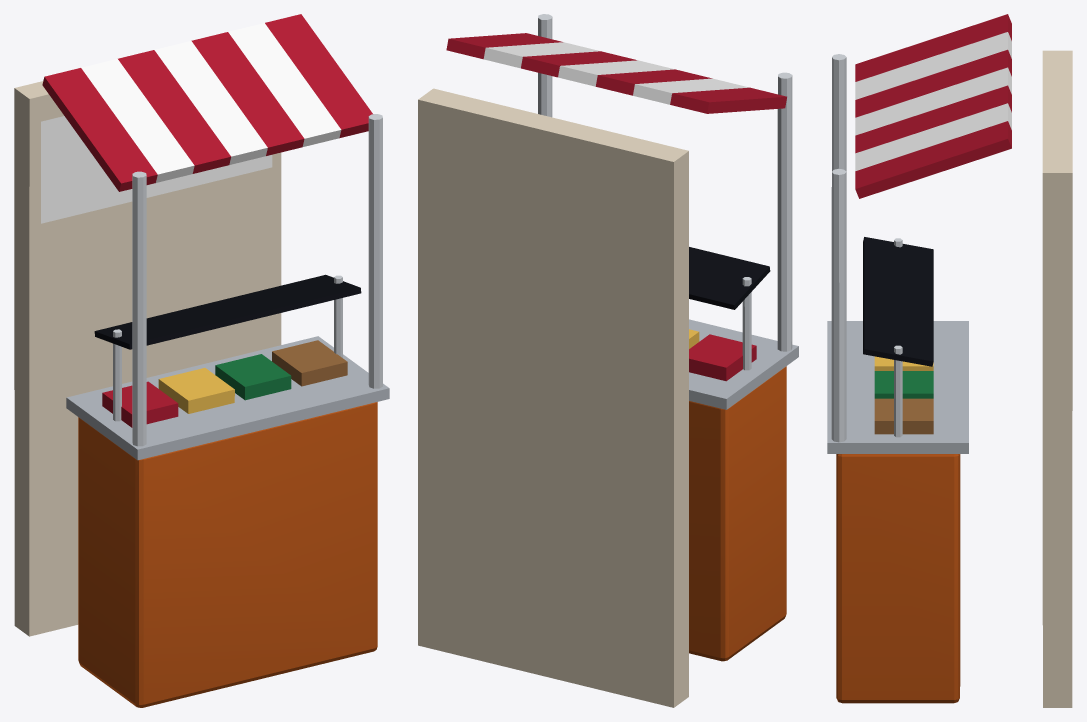
File: food-counter.glb
The picture shows the model from 3 angles, left to right: view 1: azimuth 30°, elevation 25°; view 2: azimuth 150°, elevation 25°; view 3: azimuth 270°, elevation 25°; orthographic projection. The views are drawn at different scales.
Visible parts, largest first — view 1: food-counter_lod0; view 2: food-counter_lod0; view 3: food-counter_lod0.
Part boxes in pixels (<box>): food-counter_lod0: <box>14,14,389,707</box>; food-counter_lod0: <box>418,14,798,707</box>; food-counter_lod0: <box>827,14,1072,707</box>.
Size of what is drawn, in the model's own units: 1 by 2.13 by 0.8306.
